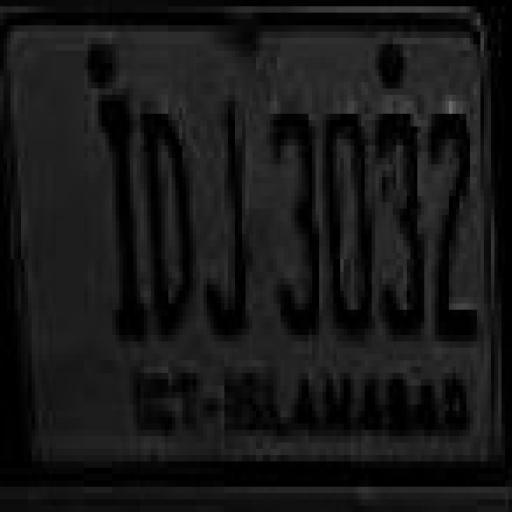0: (322, 98, 371, 344)
2: (428, 102, 487, 352)
3: (373, 100, 424, 347), (271, 110, 322, 338)
D: (142, 103, 194, 346)
I: (96, 103, 141, 341)
J: (204, 96, 251, 337)
